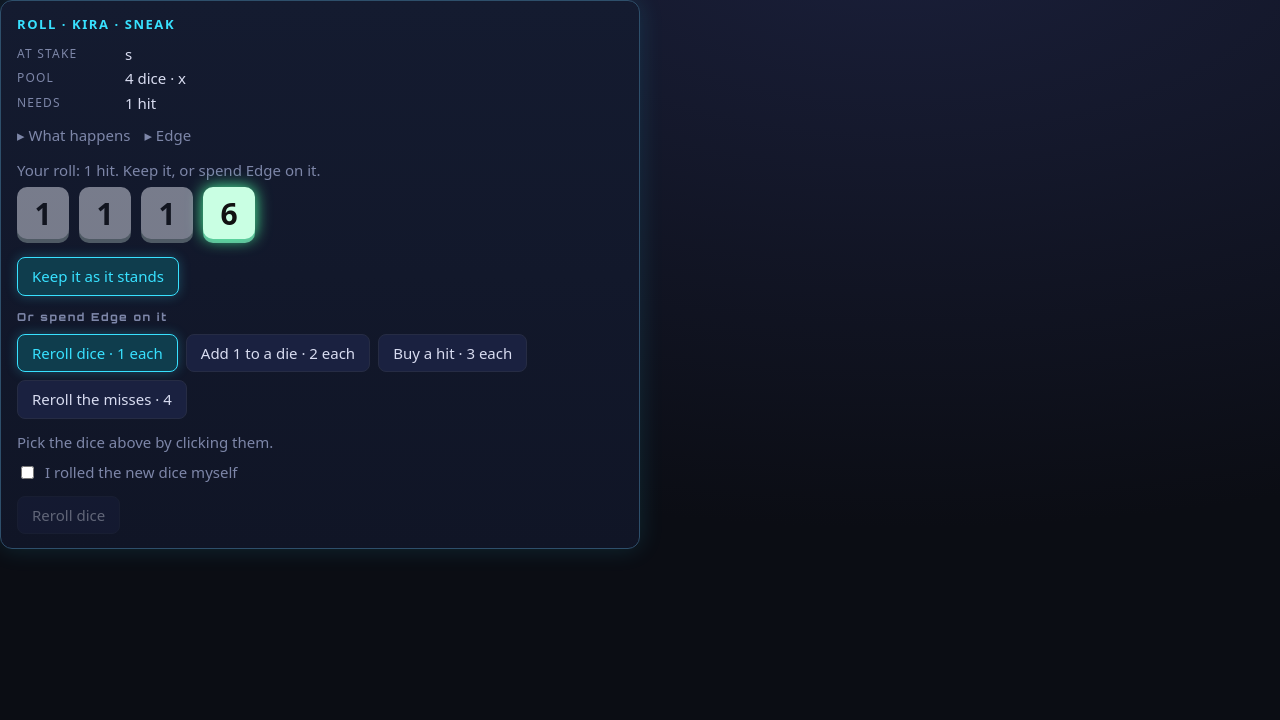
it: a roll that is held › will not reroll the misses after a glitch, or when there are none
Click the radio button labelled "Reroll the misses · 4" at [102, 399], box left=17, top=380, right=187, bottom=418
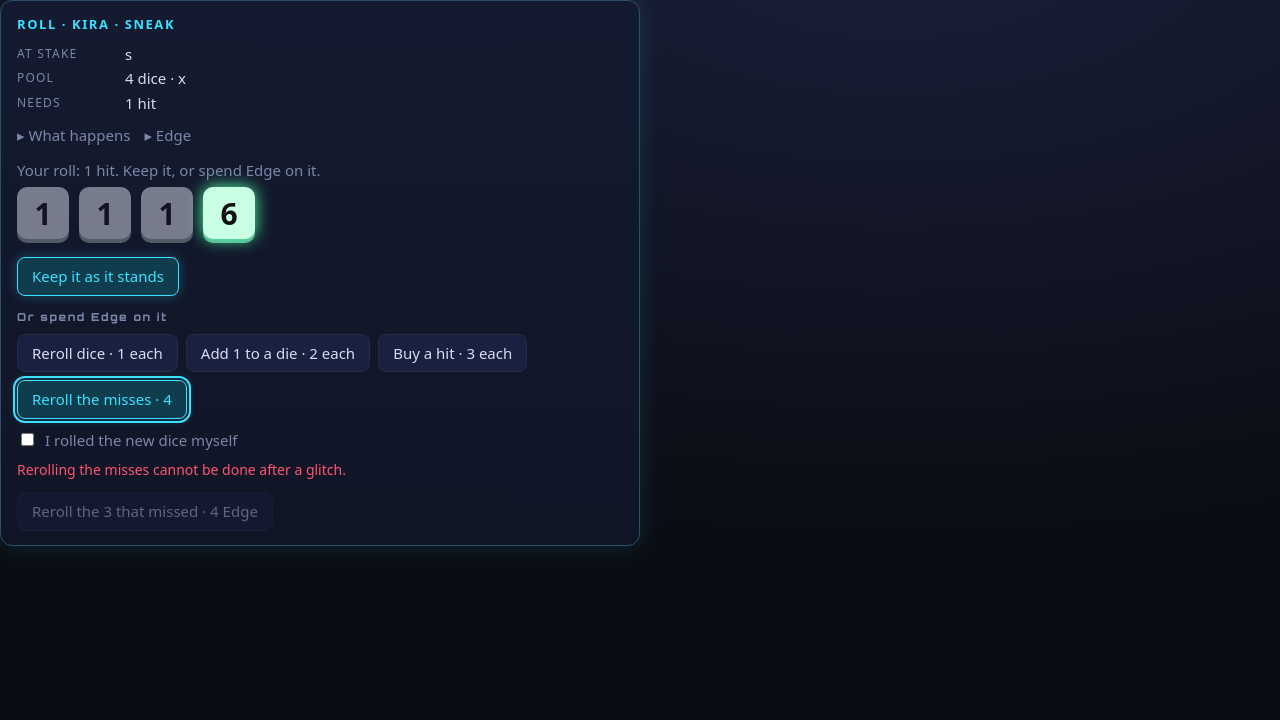
Now the message reads "Rerolling the misses cannot be done after a glitch.", box left=17, top=460, right=346, bottom=479
